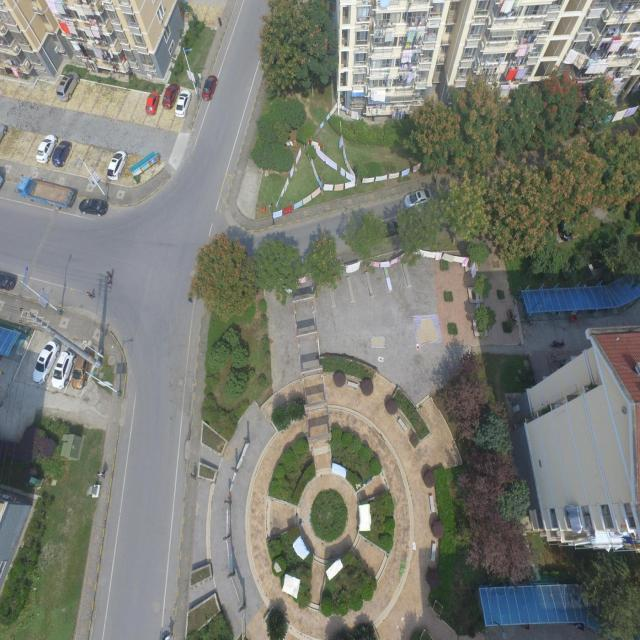car: (36, 134, 58, 164), (403, 188, 432, 209), (107, 150, 127, 180), (79, 198, 108, 216), (202, 74, 218, 100), (145, 92, 159, 115)
tree: (394, 63, 639, 278), (258, 0, 338, 98), (188, 231, 258, 324), (263, 596, 290, 640)
